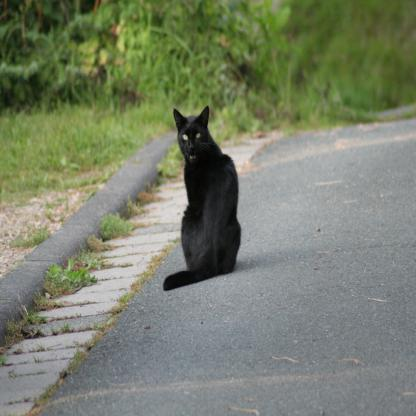cat: (162, 101, 245, 302)
